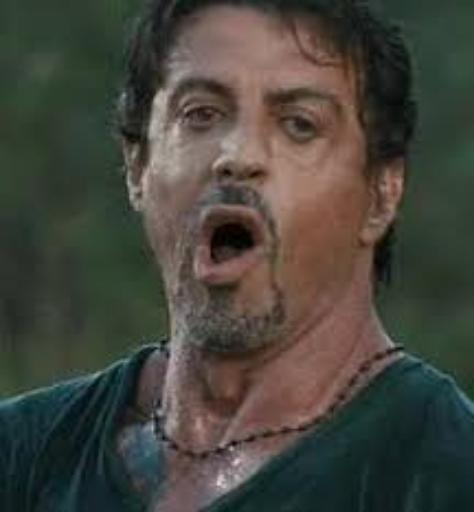left_eye: (278, 115, 326, 143)
left_lip_corner: (252, 232, 270, 255)
right_eye: (181, 106, 228, 129)
right_lip_corner: (193, 232, 209, 250)
